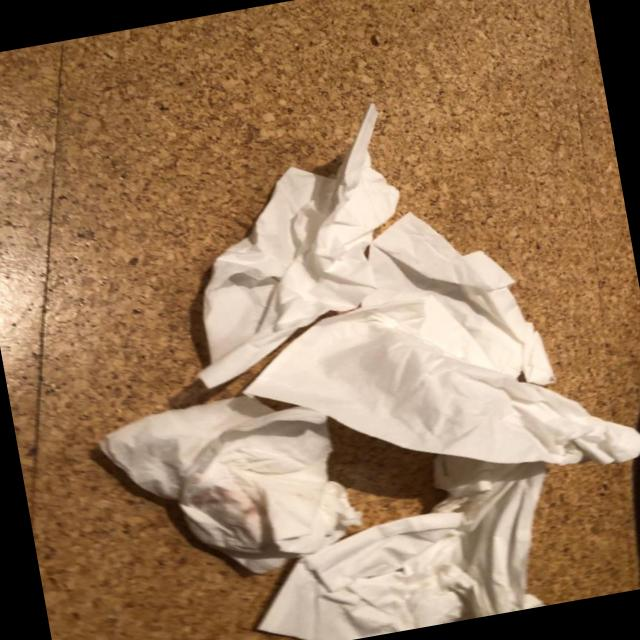organic waste: (212, 172, 640, 541), (162, 97, 431, 386), (224, 439, 569, 640), (95, 372, 383, 597)
